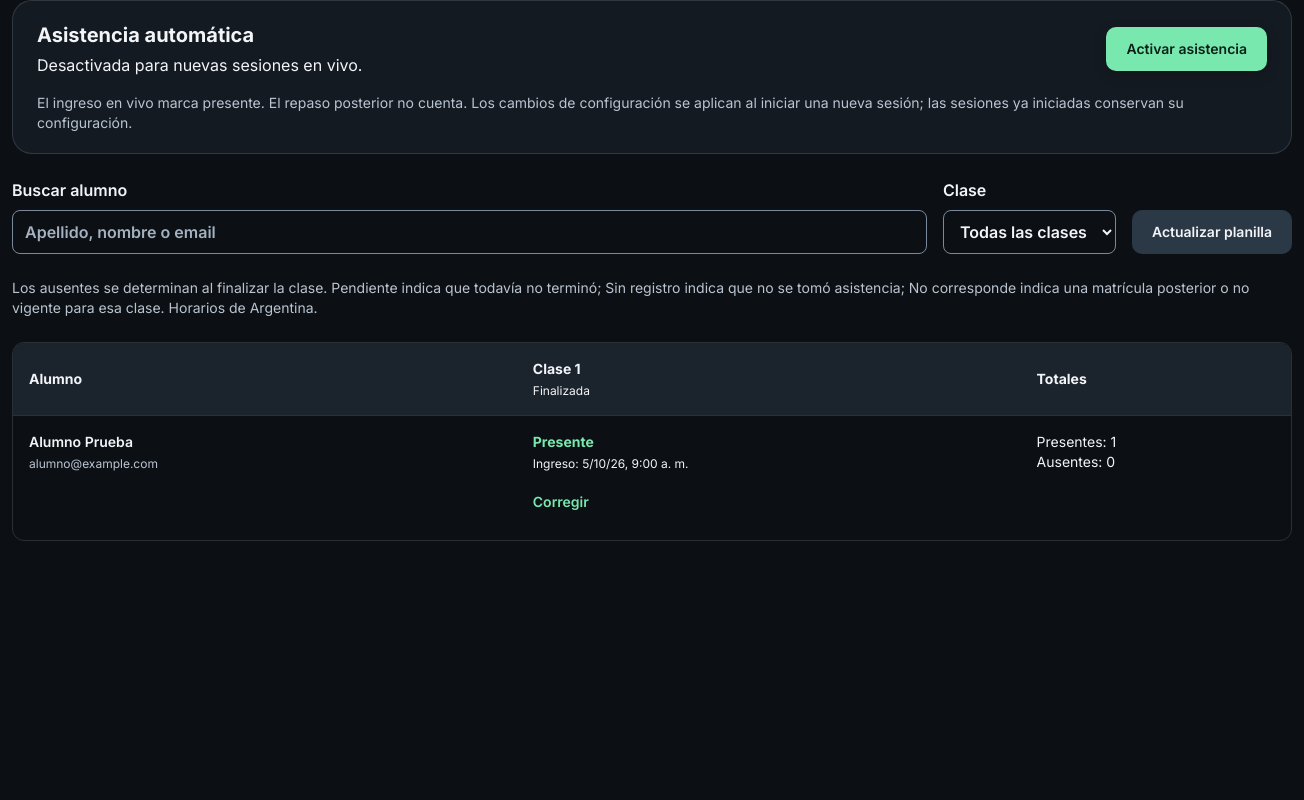
Test: activa la opción y explica alcance en vivo y para sesiones nuevas
The image size is (1304, 800).
Expected: the text "El repaso posterior no cuenta" is shown, [37, 94, 1184, 131]
Click the button "Activar asistencia" at (1187, 49), box [1106, 27, 1267, 71]
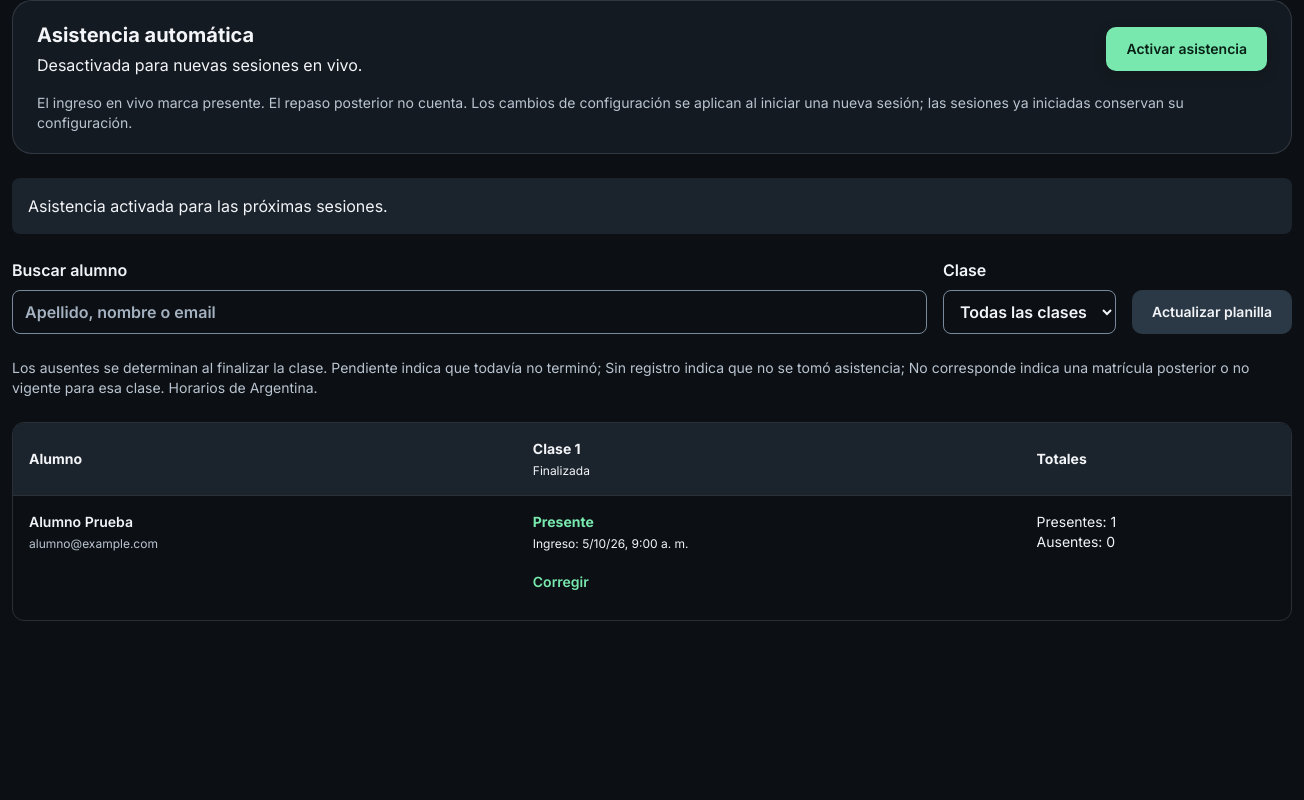
Expected: the message shows "activada", [28, 196, 388, 216]
